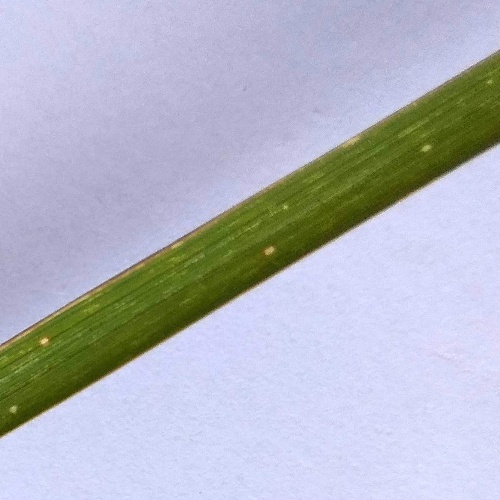Busuk Leher: (31, 328, 63, 356), (336, 130, 368, 151), (4, 395, 27, 420), (415, 138, 437, 160), (259, 242, 282, 262)
